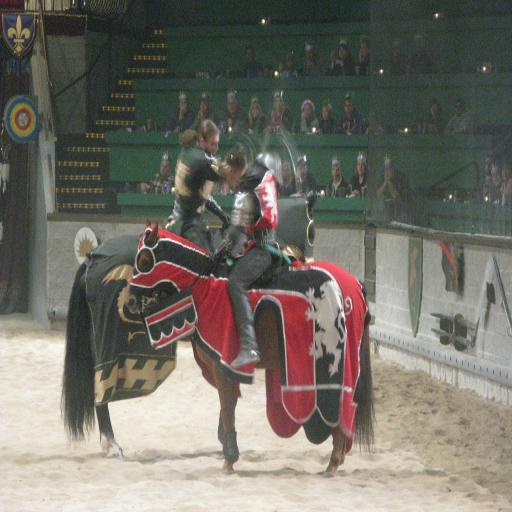horse: (60, 190, 320, 462), (124, 220, 374, 480)
